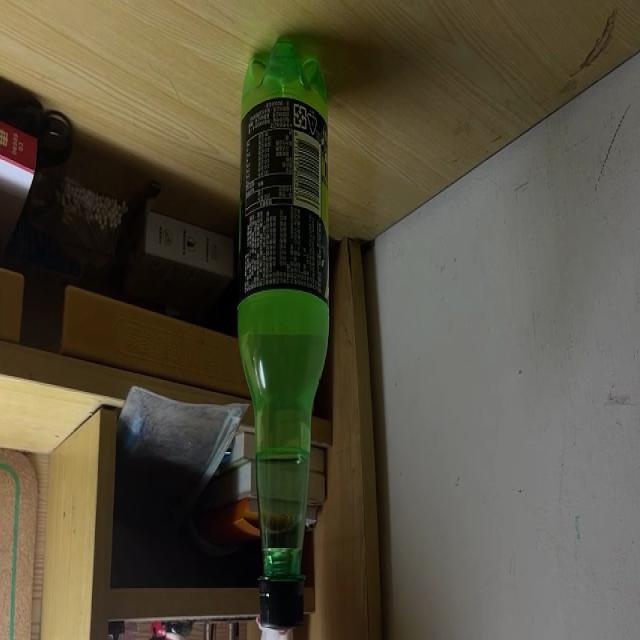Mountain-Dew: (237, 34, 329, 632)
